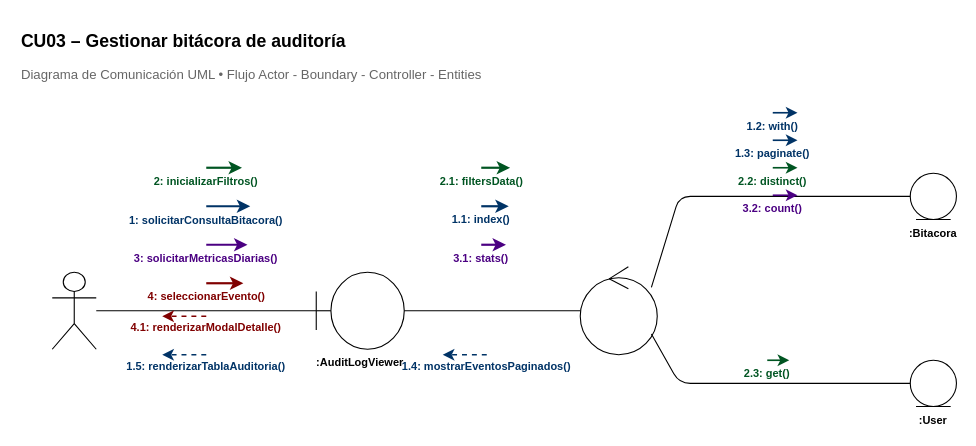
The diagram is 976 pixels wide and 446 high, and some of its shapes have lost their labels. The centre of each missing label's shape, as x and y in pixels:
":Administrador" belongs at point (73, 310).
":AuditController" belongs at point (618, 310).
